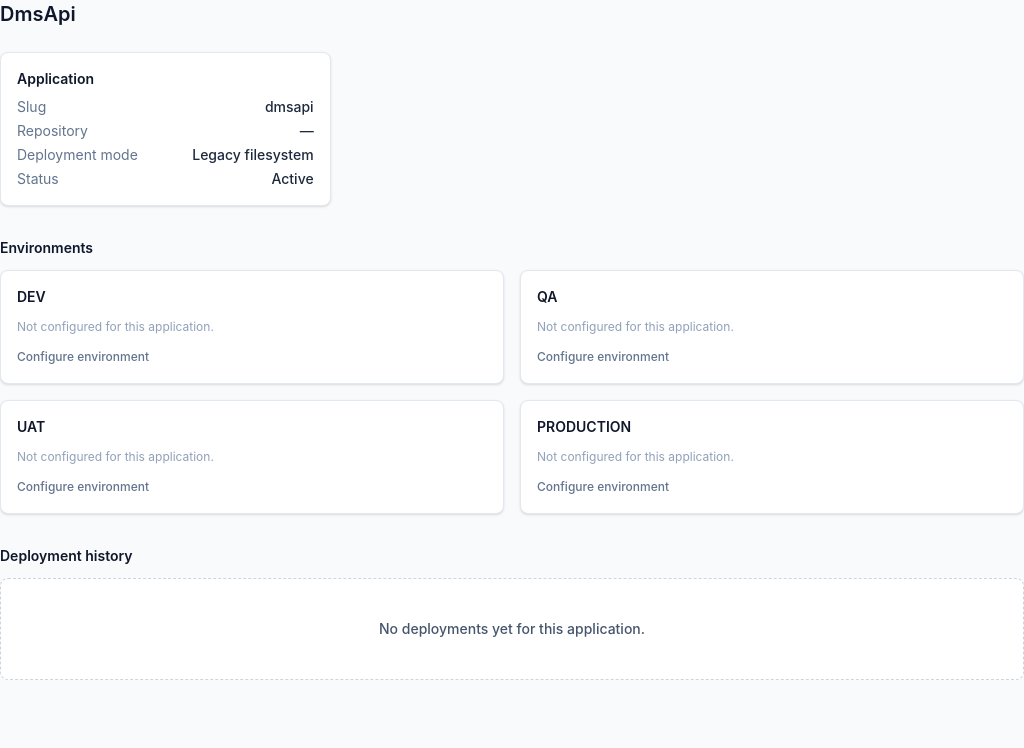
Test case: ApplicationDetailsPage › new environment configuration — pre-filled from convention › pre-fills target server, deployment root path, branch, compose/publish/backup paths — nothing typed by hand
The image size is (1024, 748).
Click the button "Configure environment" below "DEV". click: {"x": 83, "y": 357}
box: x1=17 y1=349 x2=149 y2=365
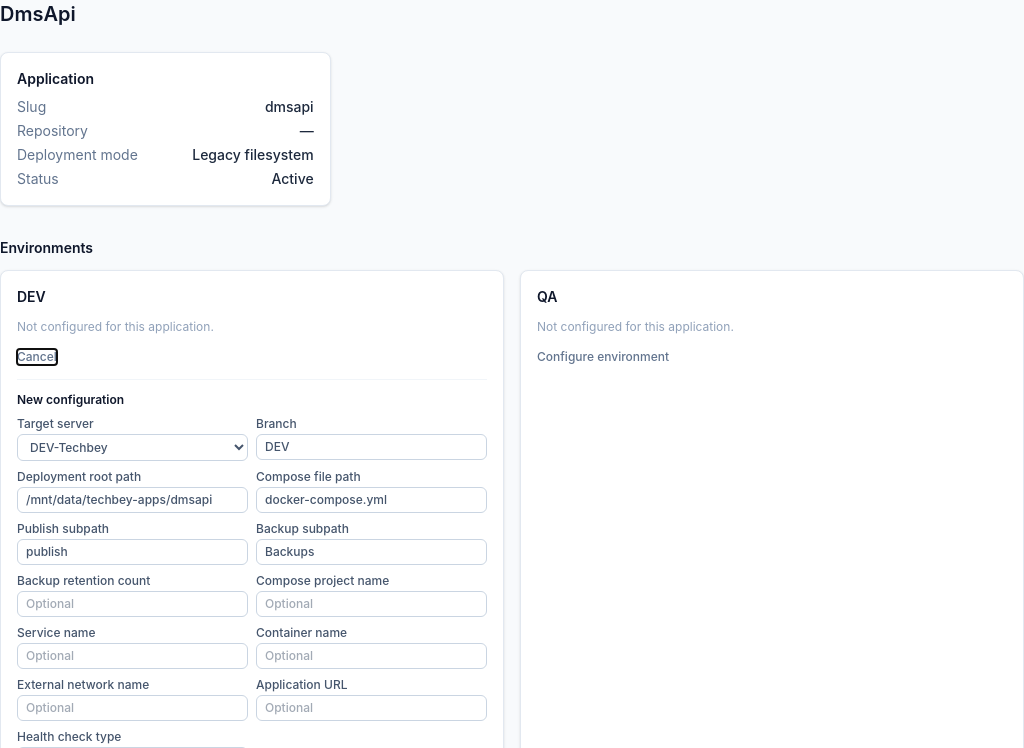
Result: the dropdown labelled "Target server" shows "DEV-Techbey" at x1=17 y1=434 x2=248 y2=461
Result: the field labelled "Branch" holds "DEV" at x1=256 y1=434 x2=487 y2=460
Result: the field labelled "Deployment root path" holds "/mnt/data/techbey-apps/dmsapi" at x1=17 y1=487 x2=248 y2=513
